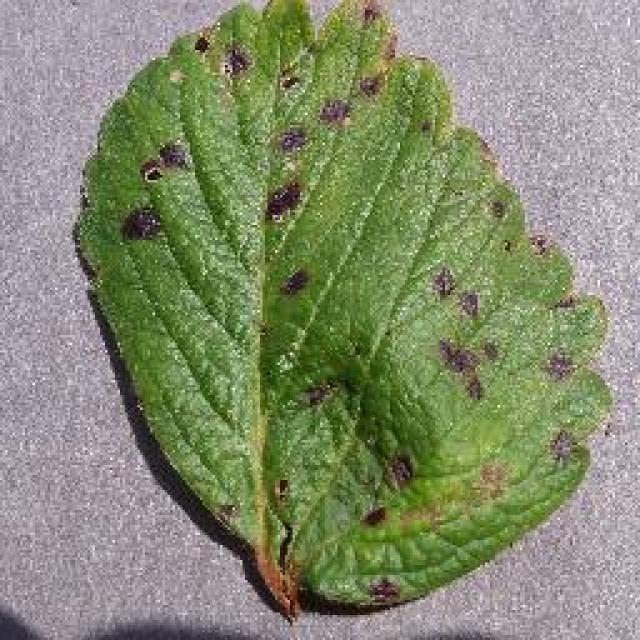Strawberry leaf scorch: (150, 52, 527, 475)
